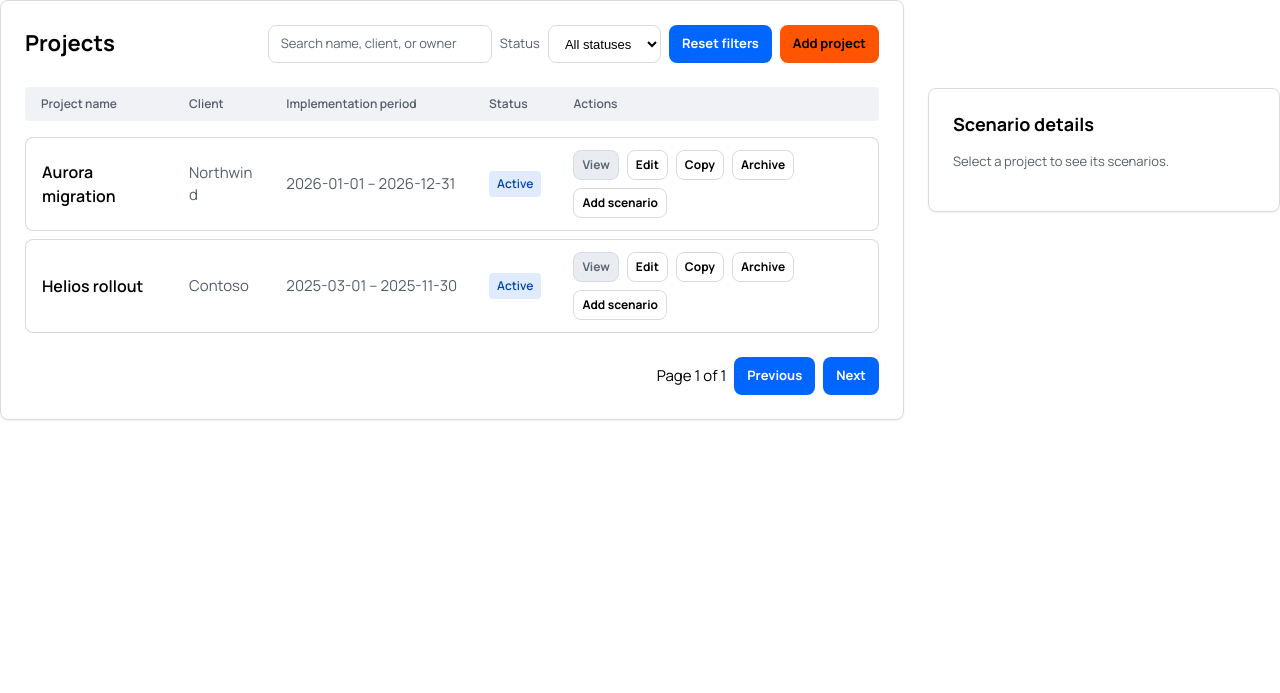
K-03 — the rule's presence decides whether 'Set Time & Material' is offered › does not offer the action on a scenario the read reports as approved, and says why
This screenshot has width=1280, height=693.
Click the button "Aurora migration": {"x": 100, "y": 184} [42,160,157,208]
(page scrolled)
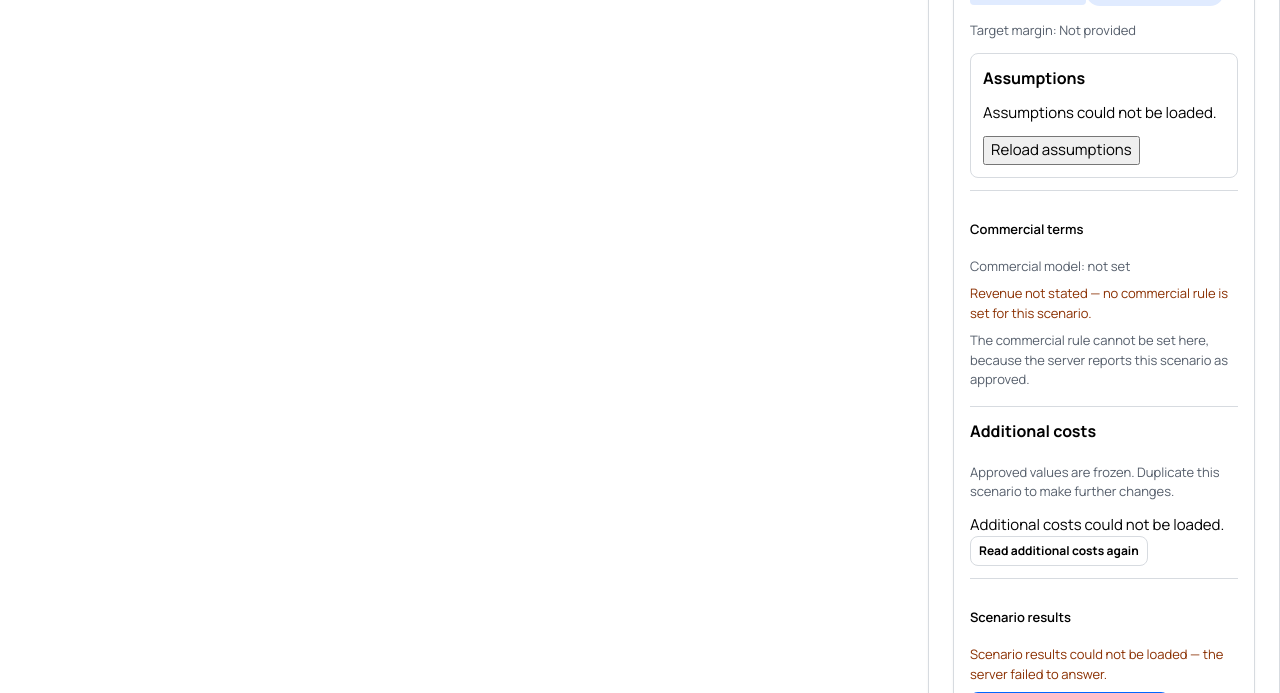
Now the text "Revenue not stated — no commercial rule is set for this scenario." is shown, box [970,284,1238,323]
Now the text "The commercial rule cannot be set here, because the server reports this scenario as approved." is shown, box [970,331,1228,388]
